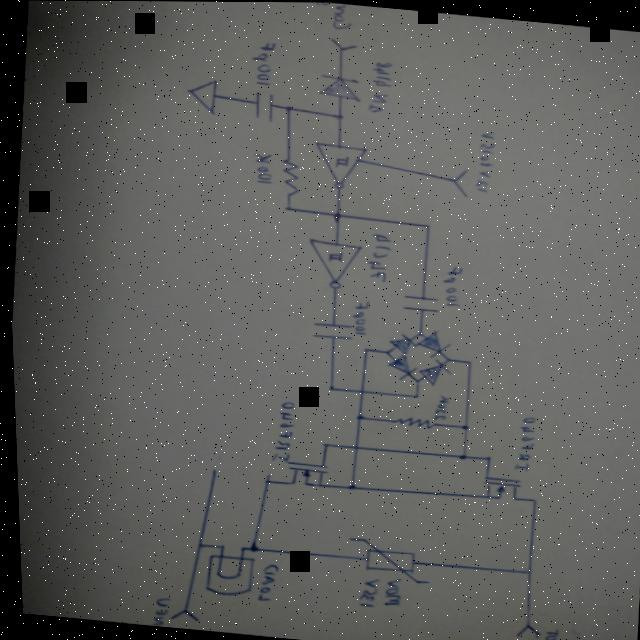capacitor: (307, 316, 351, 344), (397, 287, 438, 316), (247, 89, 276, 123)
crossover: (346, 442, 358, 451), (354, 386, 363, 395)
diode: (313, 70, 363, 104), (414, 329, 448, 359), (414, 358, 449, 387), (384, 353, 414, 380), (385, 332, 414, 354)
ground: (183, 76, 219, 117)
junction: (330, 209, 341, 221), (281, 102, 292, 113), (350, 412, 362, 422), (341, 481, 352, 491), (243, 544, 255, 553), (453, 452, 464, 461), (280, 203, 291, 212), (333, 112, 344, 121), (420, 220, 431, 229), (518, 567, 529, 575), (526, 495, 534, 503), (317, 441, 326, 448), (457, 423, 466, 430), (214, 542, 222, 549), (191, 542, 199, 549), (206, 467, 214, 474), (324, 385, 332, 392), (413, 330, 421, 337), (462, 358, 470, 365), (480, 454, 488, 461), (258, 478, 267, 484), (235, 545, 242, 552), (409, 392, 416, 399), (381, 349, 388, 356), (441, 356, 448, 363), (359, 347, 366, 353), (410, 378, 417, 383)
resistor: (276, 157, 302, 197), (387, 414, 434, 430)
terminal: (448, 167, 470, 198), (326, 33, 359, 53), (165, 607, 196, 623), (509, 622, 536, 639)
text: (506, 413, 535, 473), (266, 398, 292, 463), (364, 60, 394, 114), (361, 231, 391, 283), (472, 130, 496, 193), (247, 40, 276, 87), (250, 561, 276, 604), (437, 264, 462, 308), (248, 150, 274, 186), (350, 575, 376, 609), (346, 299, 368, 336), (144, 595, 167, 626), (331, 3, 353, 32), (377, 577, 398, 607), (427, 393, 448, 421), (535, 627, 555, 640), (315, 2, 329, 6)
transistor: (280, 459, 325, 489), (476, 474, 518, 503)
